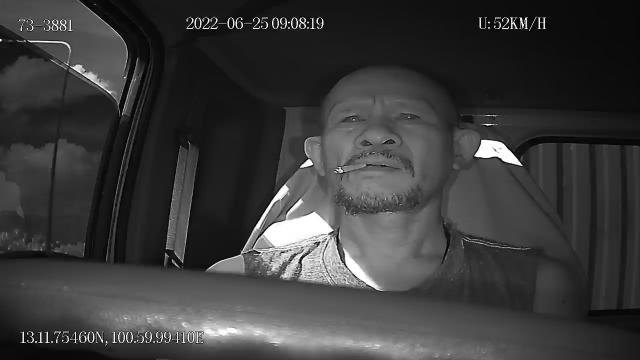SafeDriving: (388, 102, 429, 129), (332, 105, 372, 132)
Smoking: (334, 160, 366, 174)
